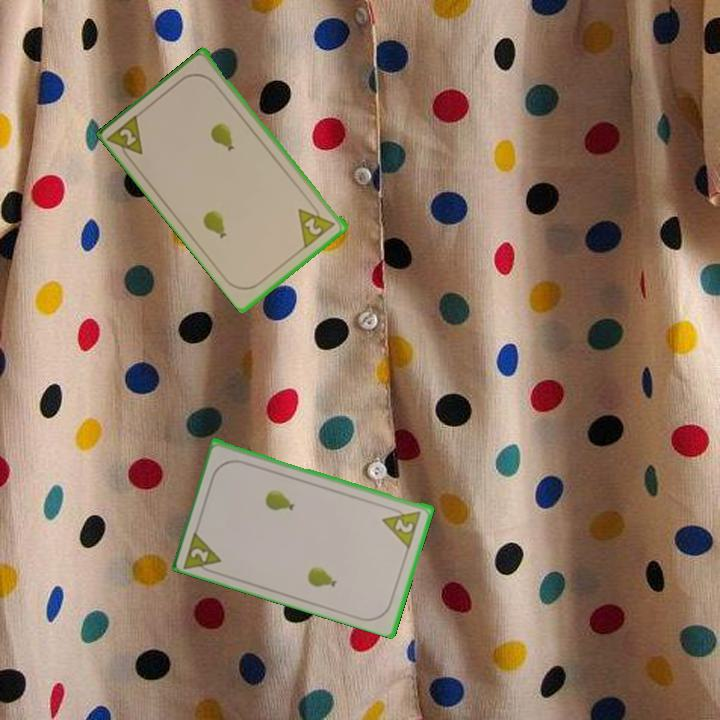2p: (105, 110, 146, 166), (180, 526, 225, 577), (379, 504, 424, 549), (301, 214, 325, 238)
